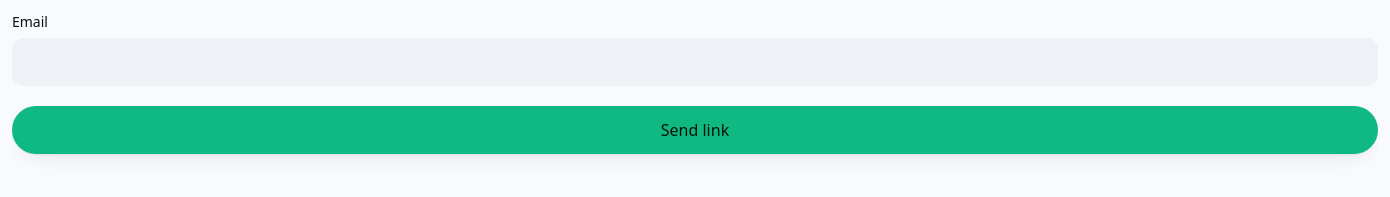
Scenario: ForgotPasswordForm › validates the email before sending
This screenshot has width=1390, height=197.
Click the button "Send link".
click(695, 130)  # box 12,106 -> 1378,154
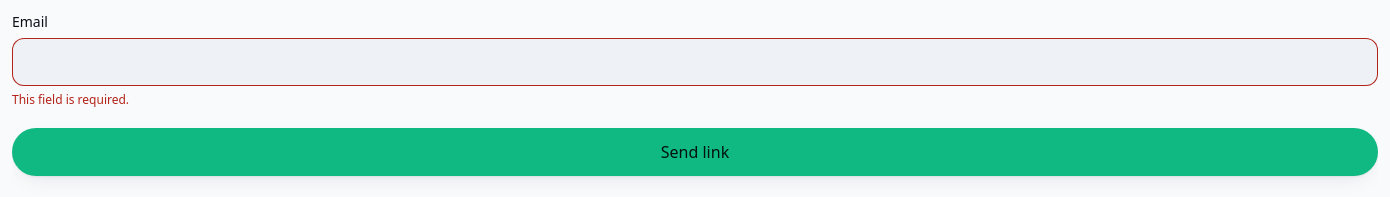
Expected: the text "This field is required." is shown, 12,91 -> 129,108
Type "sara@example.com" into the field labelled "Email".
click(695, 62); type("sara@example.com")  # box 12,38 -> 1378,86
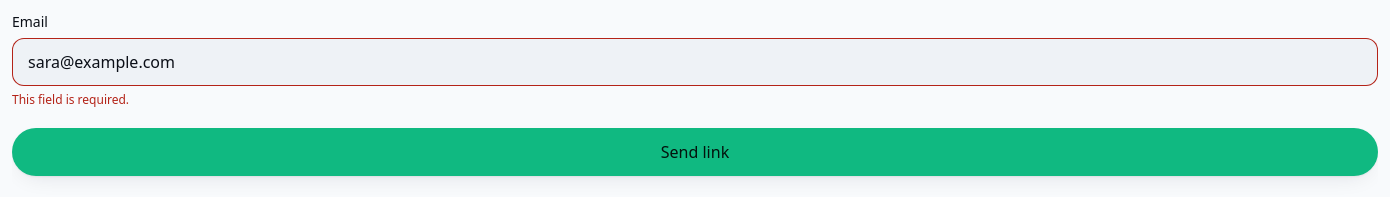
Click the button "Send link".
click(695, 152)  # box 12,128 -> 1378,176
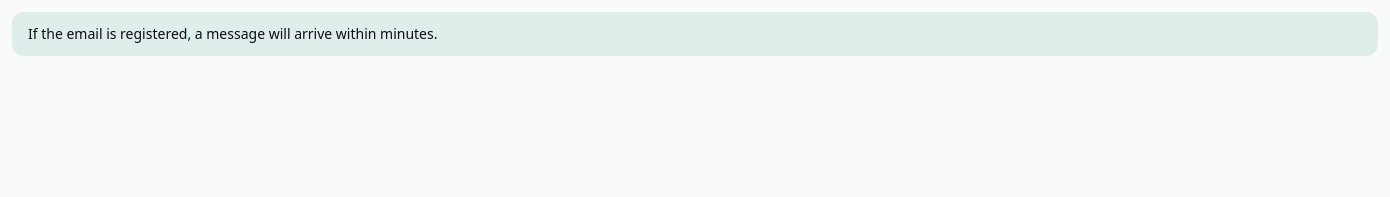
Expected: the text "If the email is registered, a message will arrive within minutes." is shown, 28,24 -> 438,43
